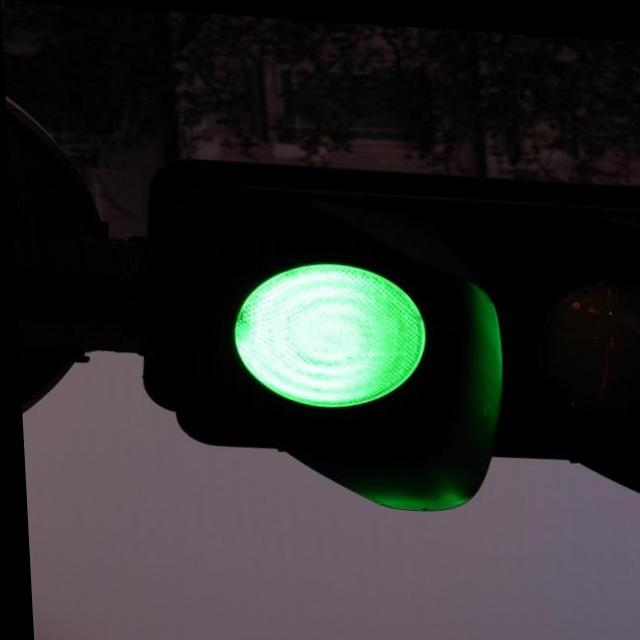green light: (178, 208, 640, 451)
